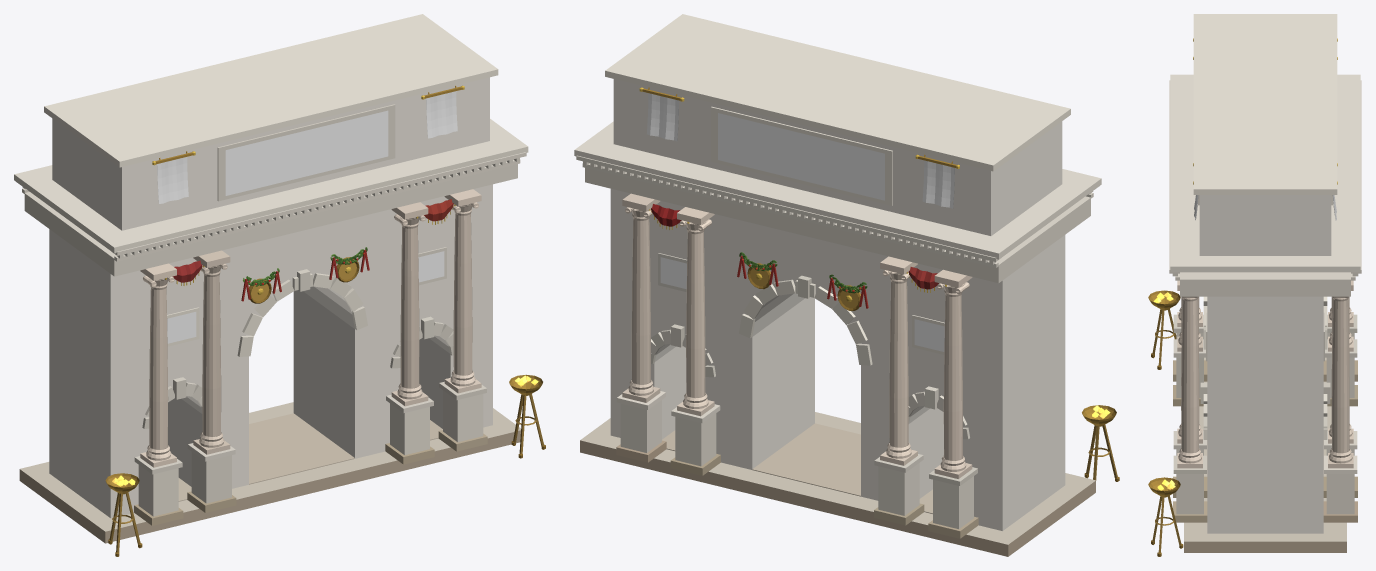
Rendered from mon_arch.glb.
3 views of the same model, side by side, from view 1: azimuth 30°, elevation 25°; view 2: azimuth 150°, elevation 25°; view 3: azimuth 270°, elevation 25° (orthographic). The views are drawn at different scales.
Visible parts, largest first — view 1: House; view 2: House; view 3: House.
Boxes of the visible parts, left/top/right/bottom form: House: left=14, top=14, right=545, bottom=556; House: left=574, top=14, right=1119, bottom=556; House: left=1148, top=14, right=1361, bottom=556.
Bounding box in the file's own units: 6.15 × 5.04 × 2.75.
Materials: 8 (8 with a texture image).
